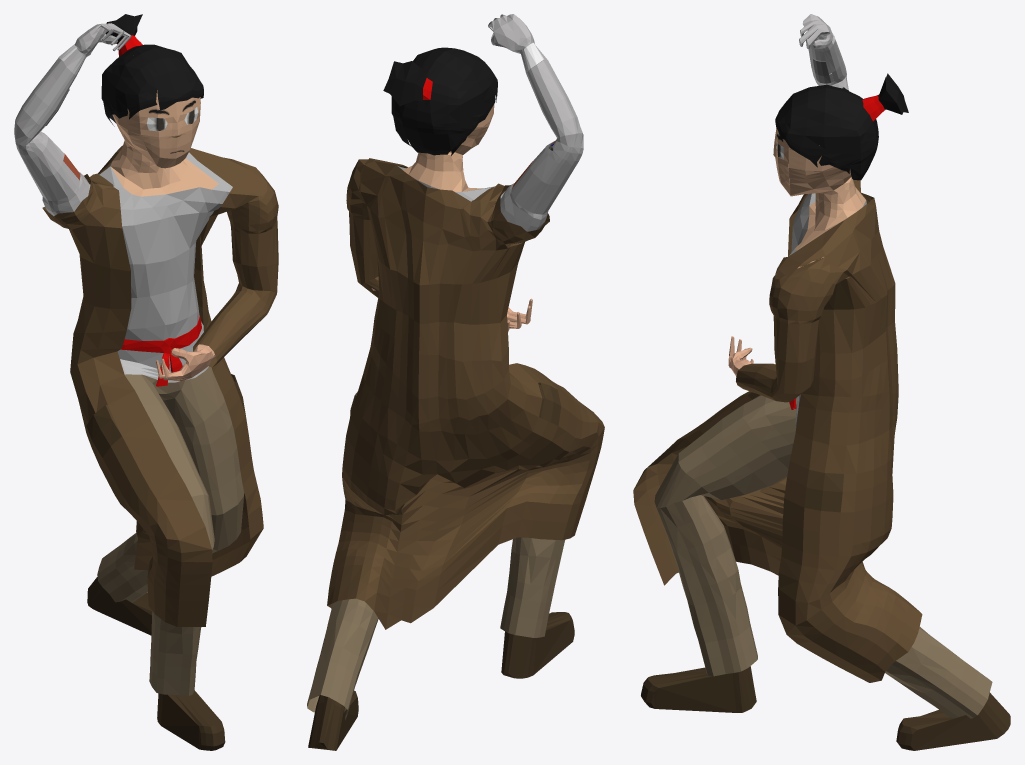
The model's file is Special_Attack_000017.obj.
The picture shows the model from 3 angles, left to right: view 1: azimuth 30°, elevation 25°; view 2: azimuth 150°, elevation 25°; view 3: azimuth 270°, elevation 25°; orthographic projection. The views are drawn at different scales.
Parts seen in each view (by area): view 1: Hair_Cube.004; view 2: Hair_Cube.004; view 3: Hair_Cube.004.
Boxes of the visible parts, left/top/right/bottom form: Hair_Cube.004: left=14, top=14, right=278, bottom=750; Hair_Cube.004: left=307, top=14, right=604, bottom=750; Hair_Cube.004: left=633, top=14, right=1010, bottom=750.
Bounding box in the file's own units: 1.36 × 3.68 × 1.86.
